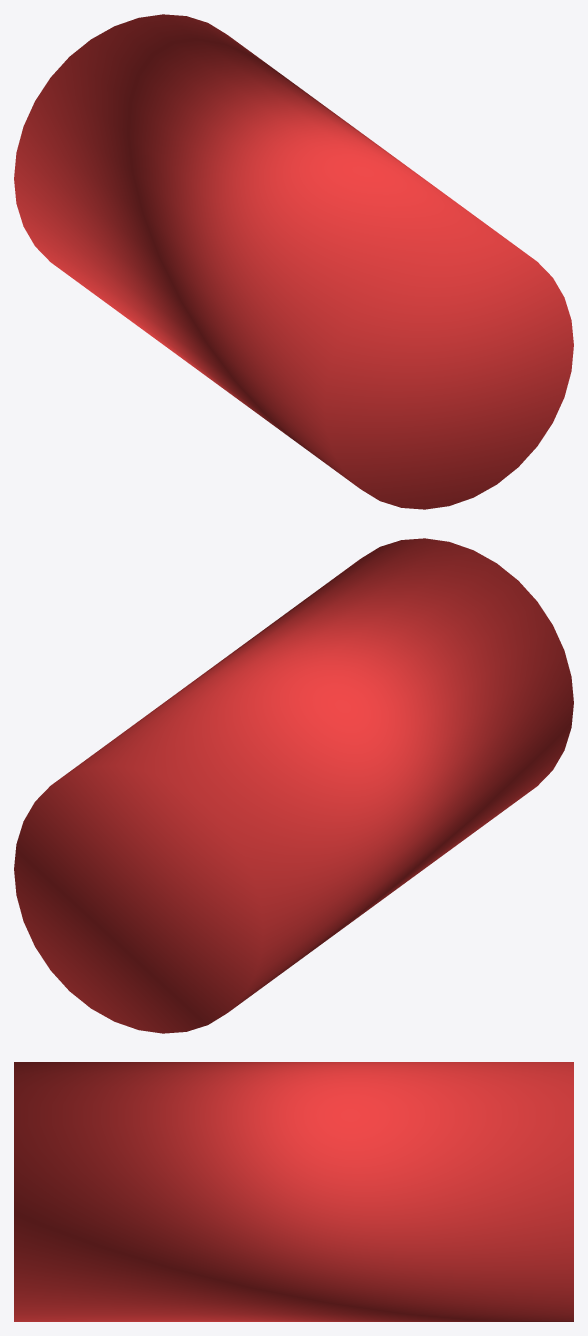
The model's file is GT3_Fire_Suppression_Bottle.glb.
The picture shows the model from 3 angles, top to bottom: view 1: azimuth 30°, elevation 25°; view 2: azimuth 150°, elevation 25°; view 3: azimuth 270°, elevation 25°; orthographic projection. The views are drawn at different scales.
Visible parts, largest first — view 1: GT3_Fire_Suppression_Bottle; view 2: GT3_Fire_Suppression_Bottle; view 3: GT3_Fire_Suppression_Bottle.
Part boxes in pixels (x1,y1,x2,y2): GT3_Fire_Suppression_Bottle: (14,14,573,509); GT3_Fire_Suppression_Bottle: (14,538,573,1033); GT3_Fire_Suppression_Bottle: (14,1062,573,1321).
Bounding box in the file's own units: 0.13 × 0.13 × 0.28.
